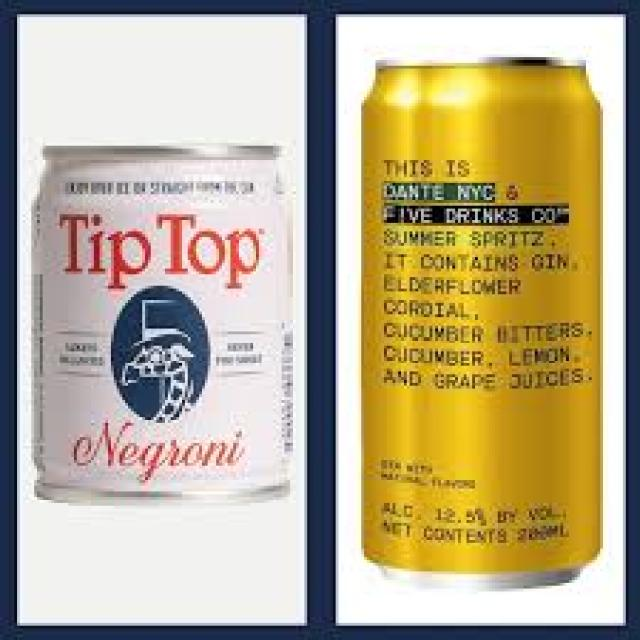Cans: (352, 46, 608, 603), (26, 137, 304, 517)
